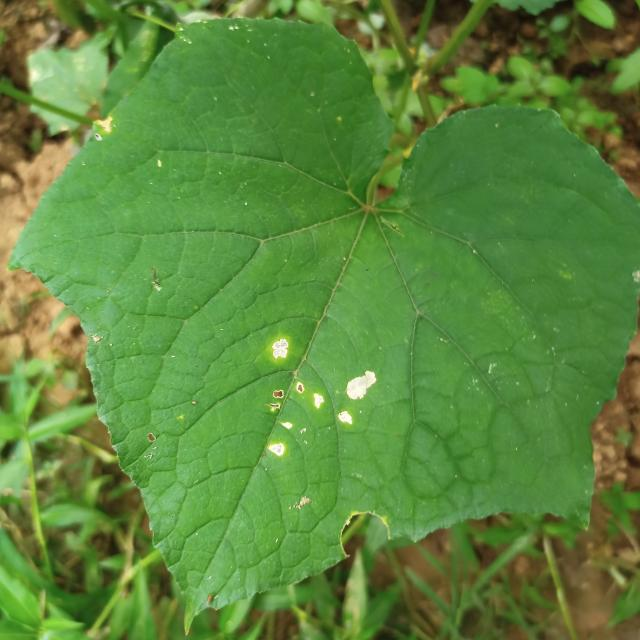disease_cucumber: (268, 338, 377, 457)
